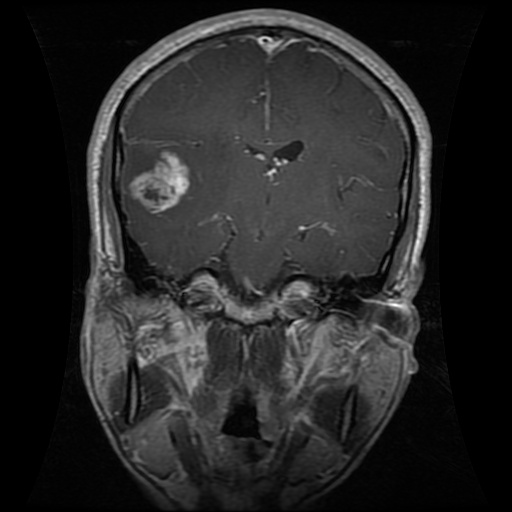glioma: (125, 146, 195, 217)
